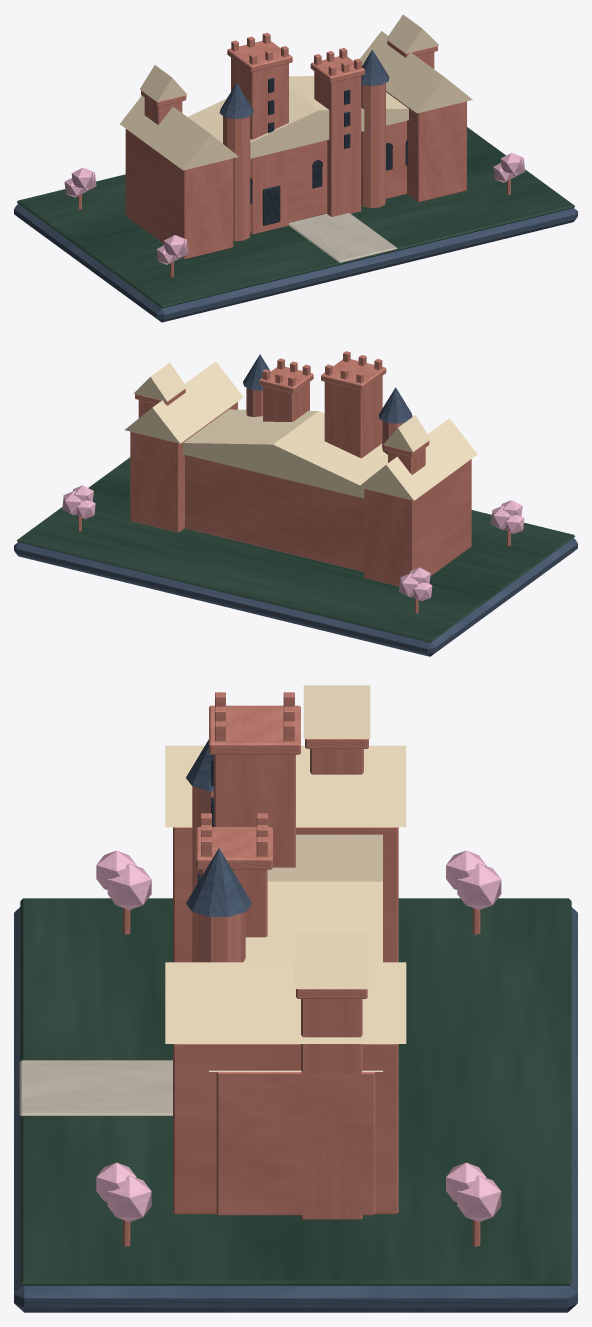
Rendered from smithsonian-castle-diorama.glb.
3 renders of one model, top to bottom at view 1: azimuth 30°, elevation 25°; view 2: azimuth 150°, elevation 25°; view 3: azimuth 270°, elevation 25°, orthographic. The views are drawn at different scales.
Visible parts, largest first — view 1: smithsonian-castle; view 2: smithsonian-castle; view 3: smithsonian-castle.
Boxes of the visible parts, x1,y1,x2,y2 form: smithsonian-castle: [14, 14, 577, 322]; smithsonian-castle: [14, 351, 577, 656]; smithsonian-castle: [14, 685, 577, 1312].
Size of the model in its own units: 18 by 7.96 by 11.
Materials: 1 (1 with a texture image).
